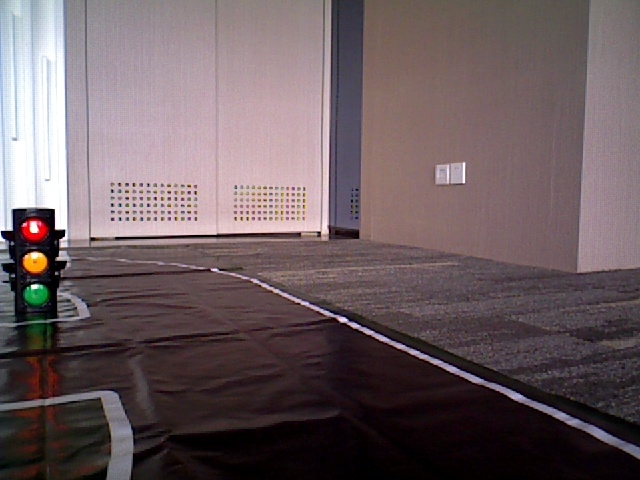red: (14, 213, 53, 314)
